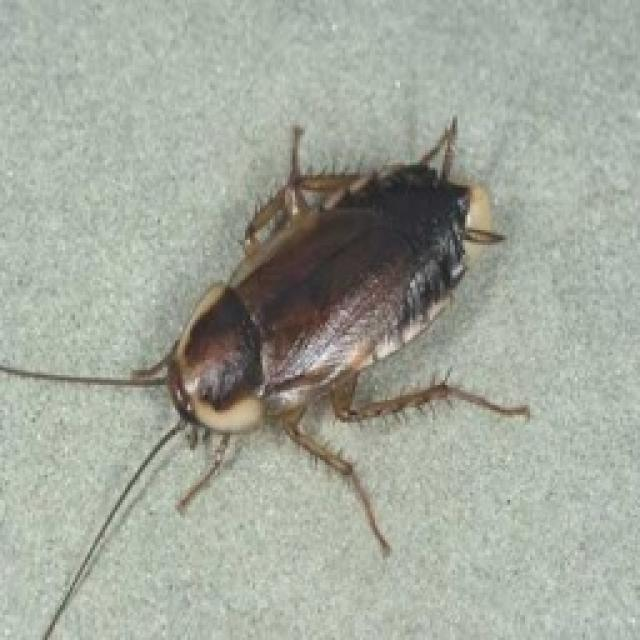cockroach: (3, 111, 536, 634)
